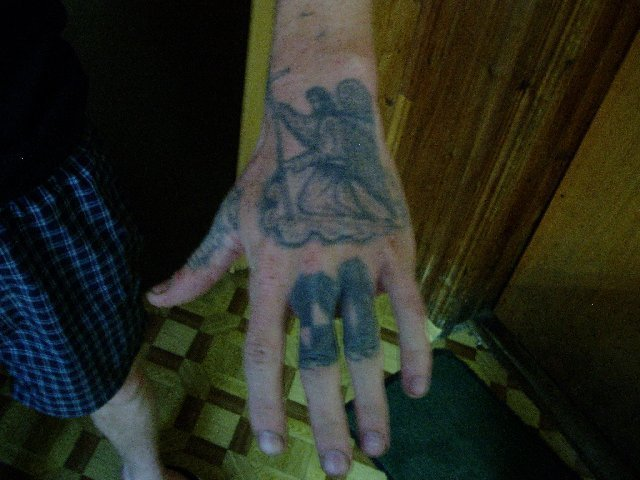tatu1_angel: (262, 68, 402, 247)
